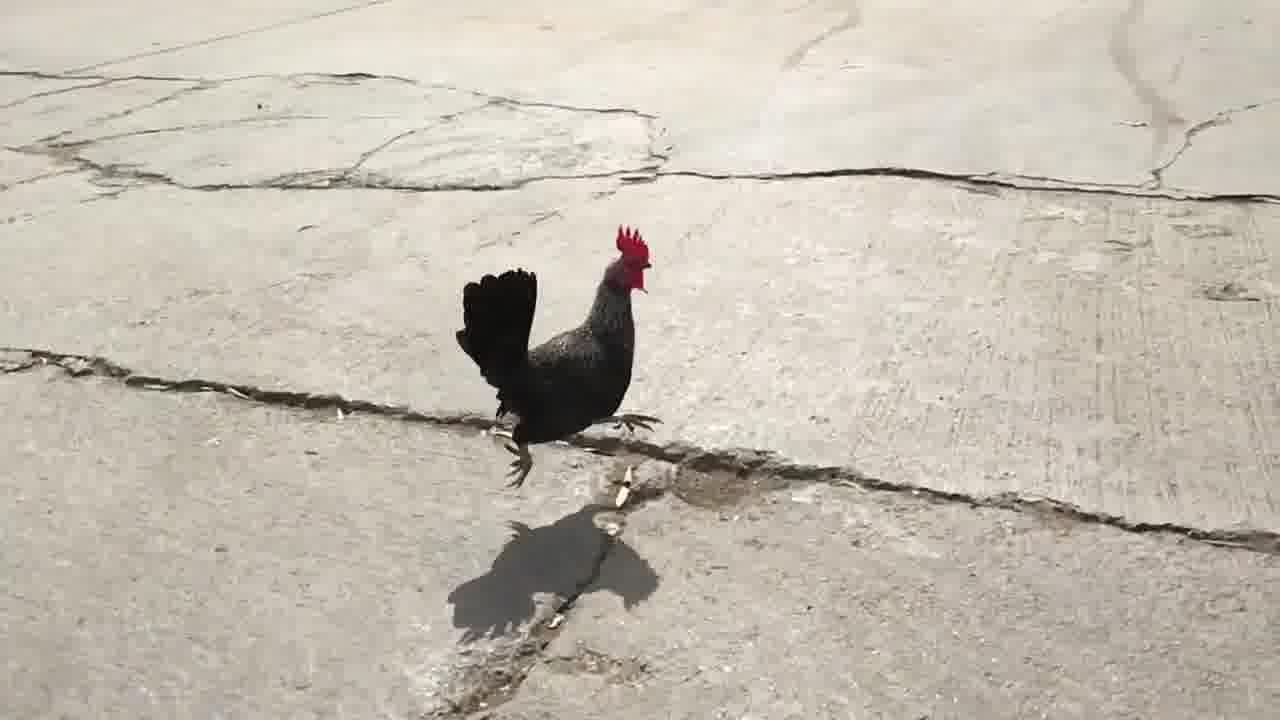Normal: (448, 220, 678, 496)
